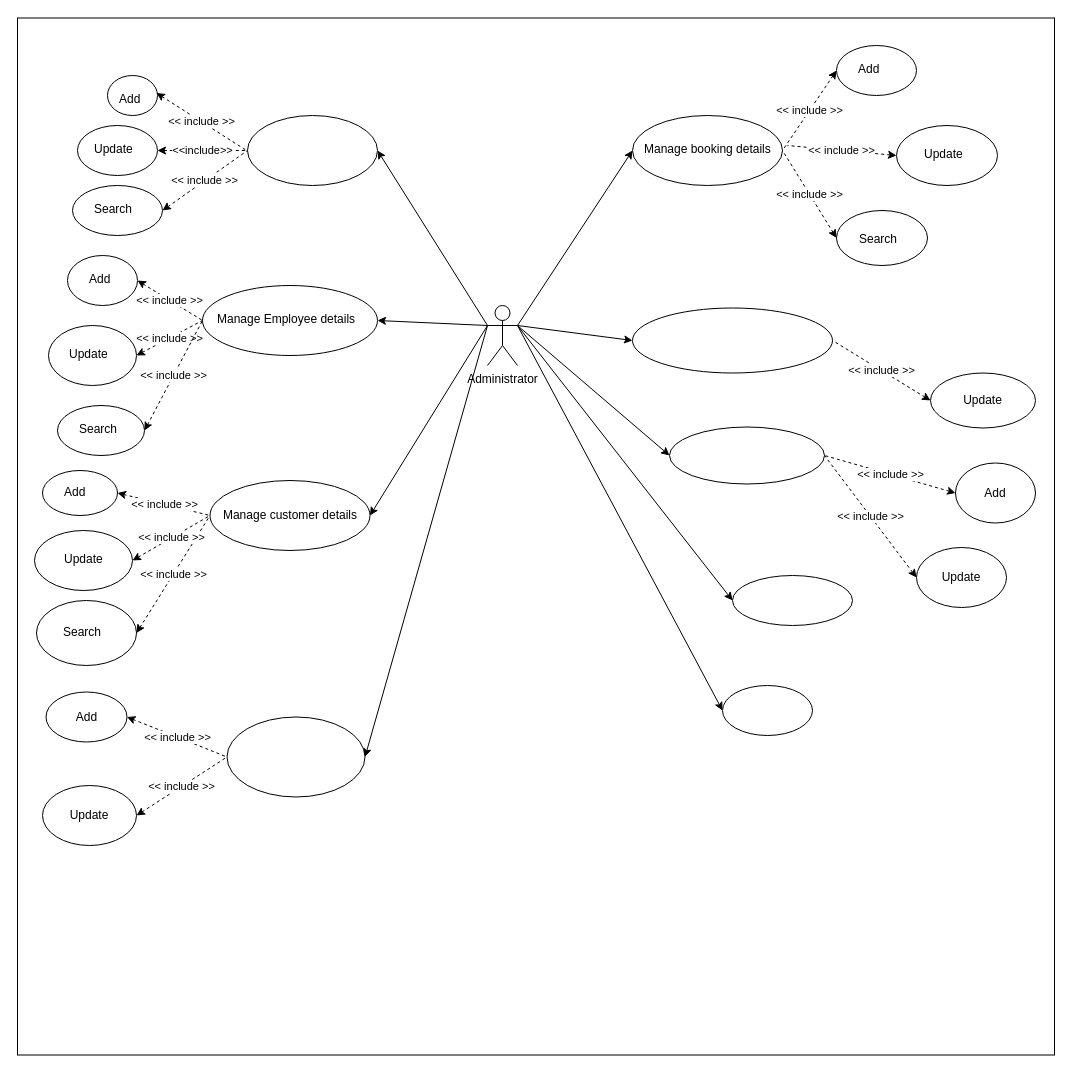
Image size: 1072x1072. Some labels were removed from this diagram. The centre of each missing label's shape, as x and y in pixels:
"Calculate the charged by type" belongs at point 732,340.
"Login" belongs at point 767,710.
"Manage BlockTime" belongs at point 746,455.
"Manage bus details" belongs at point 312,150.
"Manage Route" belongs at point 295,756.
"Search option" belongs at point 792,600.
